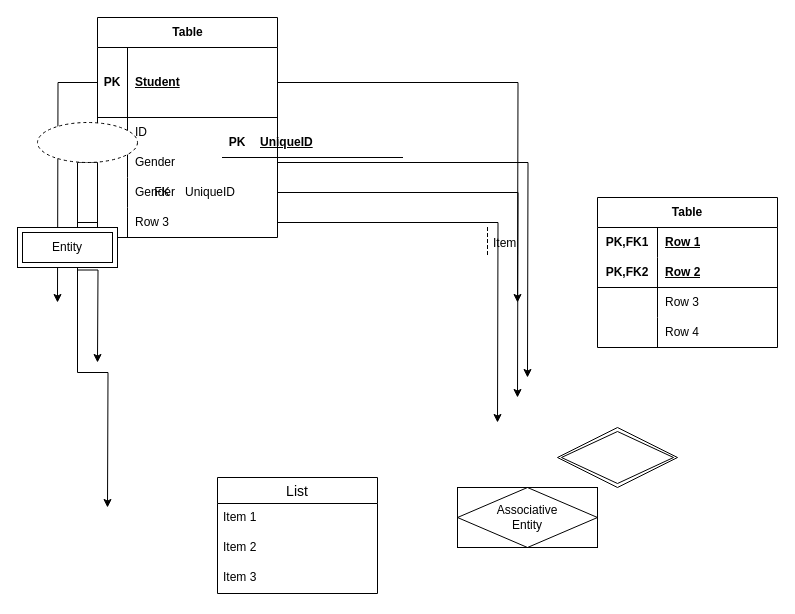
Image size: 795x614. Some labels were removed from this diagram. Here are the shapes that lost their labels. From the top down, the centre of each, then its label:
At point 87,142: "Attribute".
At point 617,457: "Relationship".
